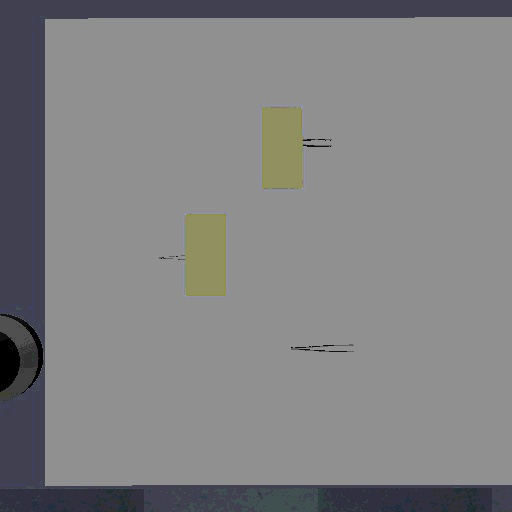pinza: (286, 340, 360, 357), (303, 134, 335, 152), (155, 250, 185, 266)
